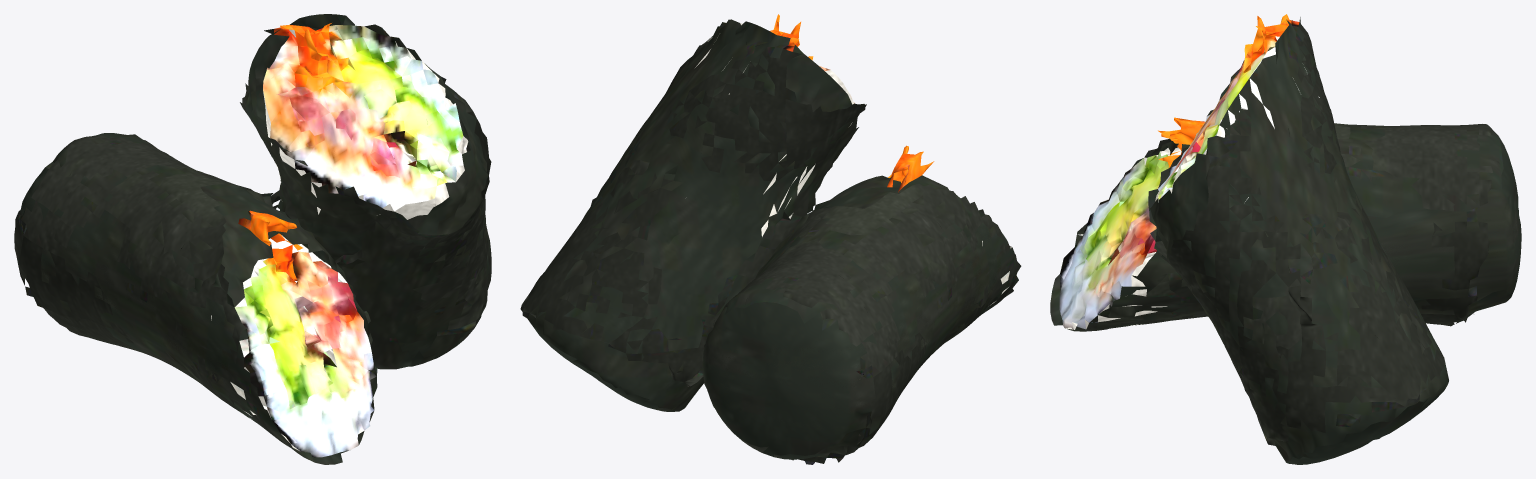
The model's file is sushi_burrito_lite.glb.
3 renders of one model, left to right at view 1: azimuth 30°, elevation 25°; view 2: azimuth 150°, elevation 25°; view 3: azimuth 270°, elevation 25°, orthographic.
Parts seen in each view (by area): view 1: ing_nori, ing_rice, ing_avocado, ing_carrot, ing_cucumber, ing_ahiTuna, ing_sprouts, ing_chiliMayo, ing_unagiSauce; view 2: ing_nori, ing_carrot, ing_rice; view 3: ing_nori, ing_rice, ing_carrot, ing_avocado, ing_cucumber, ing_ahiTuna, ing_chiliMayo.
Boxes of the visible parts, left/top/right/bottom form: ing_nori: left=14, top=14, right=491, bottom=464; ing_rice: left=211, top=25, right=468, bottom=457; ing_avocado: left=259, top=49, right=444, bottom=371; ing_carrot: left=238, top=23, right=380, bottom=322; ing_cucumber: left=247, top=37, right=456, bottom=405; ing_ahiTuna: left=288, top=87, right=400, bottom=348; ing_sprouts: left=260, top=37, right=450, bottom=409; ing_chiliMayo: left=298, top=88, right=386, bottom=340; ing_unagiSauce: left=307, top=131, right=416, bottom=367; ing_nori: left=520, top=19, right=1021, bottom=464; ing_carrot: left=770, top=14, right=934, bottom=192; ing_rice: left=695, top=23, right=1015, bottom=305; ing_nori: left=1050, top=17, right=1521, bottom=464; ing_rice: left=1059, top=31, right=1319, bottom=329; ing_carrot: left=1140, top=14, right=1299, bottom=254; ing_avocado: left=1100, top=70, right=1253, bottom=246; ing_cucumber: left=1084, top=124, right=1219, bottom=270; ing_ahiTuna: left=1120, top=65, right=1242, bottom=257; ing_chiliMayo: left=1124, top=72, right=1241, bottom=253.
Bounding box in the file's own units: 0.1578 × 0.1446 × 0.1599.
Materials: 1 (1 with a texture image).
